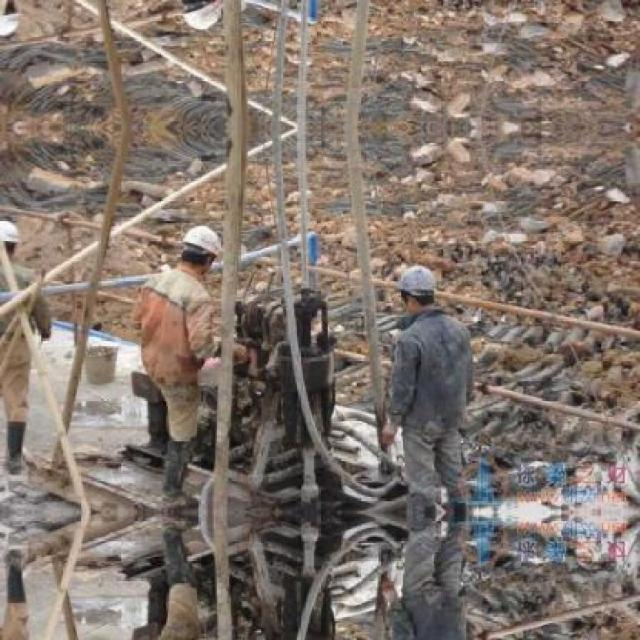hat: (391, 260, 442, 302), (180, 218, 223, 260), (0, 217, 23, 254)
